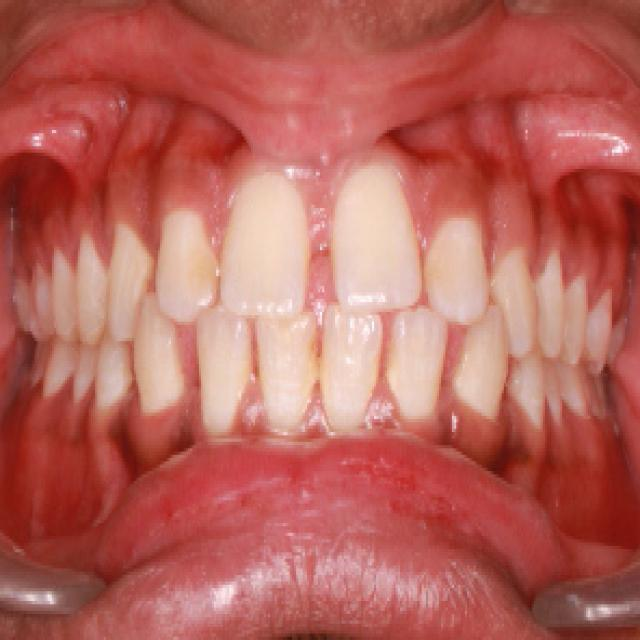tooth: (320, 150, 426, 322), (223, 169, 309, 322), (320, 322, 398, 471), (409, 198, 493, 328), (192, 315, 262, 442), (255, 315, 316, 458), (106, 224, 160, 367), (98, 331, 192, 403), (497, 231, 545, 354), (407, 315, 456, 429), (456, 322, 515, 416), (164, 214, 218, 312), (73, 227, 106, 338), (540, 254, 566, 354), (50, 247, 76, 331), (524, 361, 552, 419)
